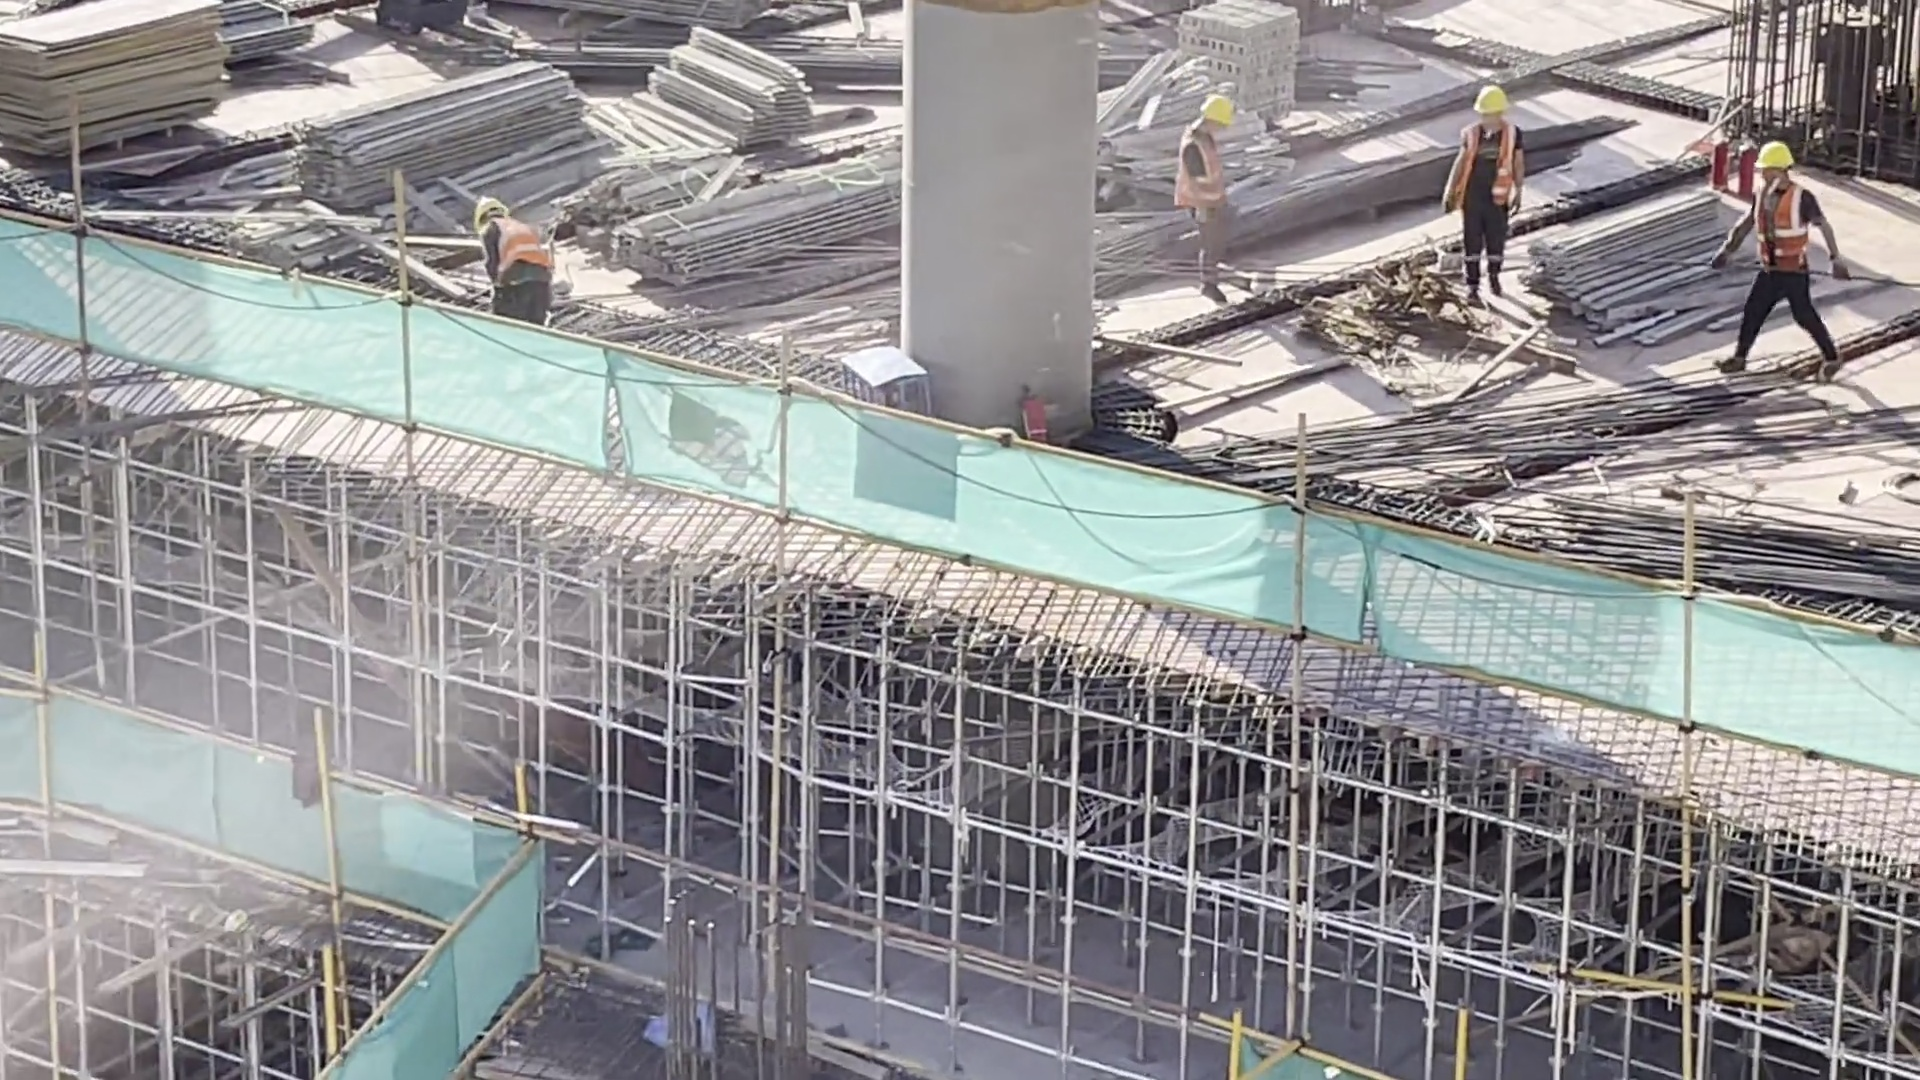board: (5, 1, 245, 138)
helmet: (1752, 129, 1802, 182), (1190, 71, 1233, 127), (1468, 72, 1508, 116), (467, 192, 501, 223)
person: (1740, 124, 1845, 371), (1438, 68, 1535, 315), (464, 191, 577, 323), (1180, 90, 1252, 280)
vest: (1167, 129, 1233, 220), (1750, 187, 1816, 276), (1456, 124, 1520, 209), (481, 218, 552, 282)
wood: (304, 56, 597, 213), (593, 160, 897, 290), (1564, 197, 1764, 345), (625, 13, 819, 161)
